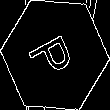P_NE: (27, 27, 83, 83)
